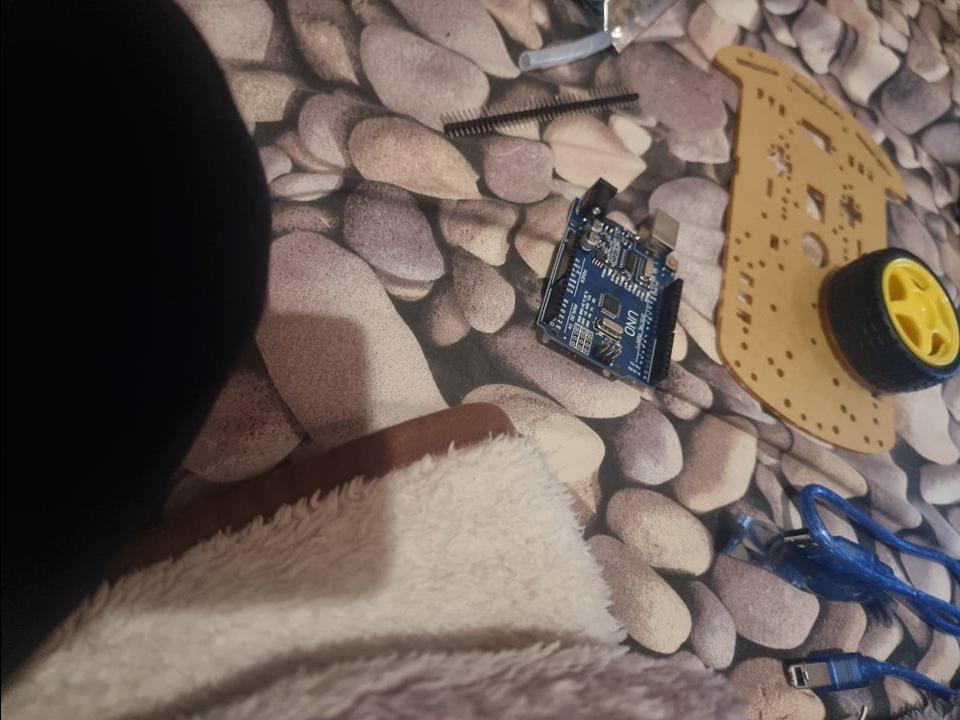UNO R3: (533, 179, 683, 388)
